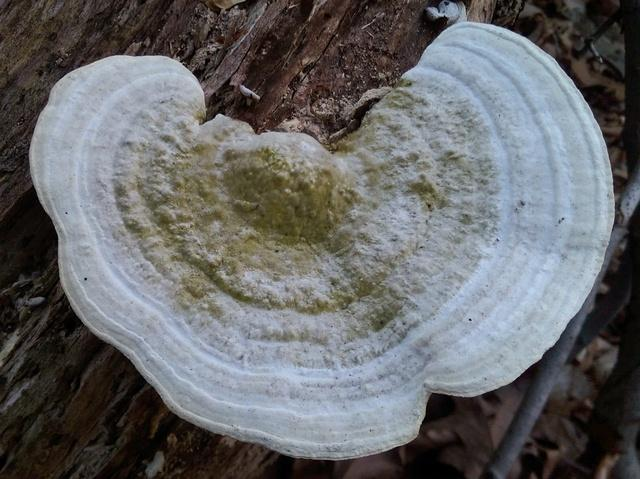poisonous_mushroom: (27, 19, 616, 461)
